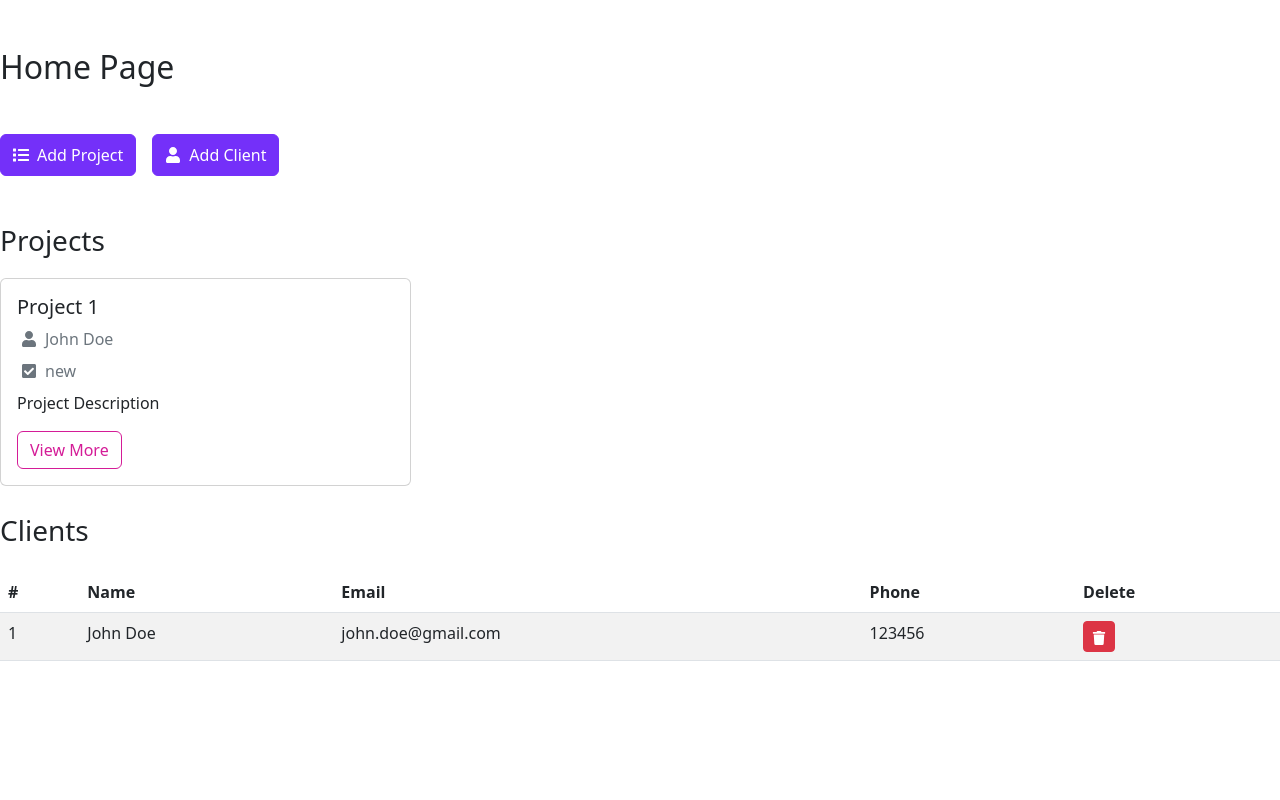
Test: Home Page › Should open modal when clicking on the button
Click the button "Add Project".
click(68, 155)  # box [0,134,136,176]
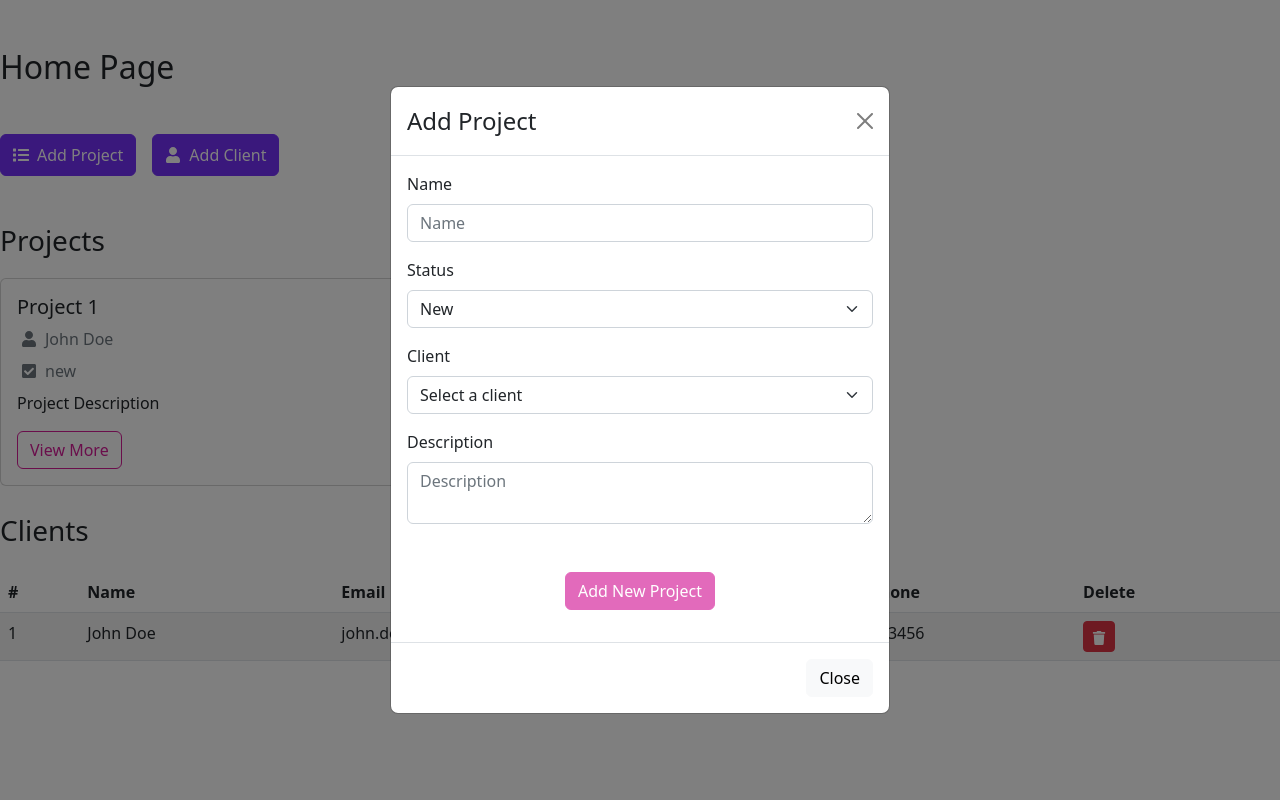
Check: the dialog is shown, box [390,86,890,714]
